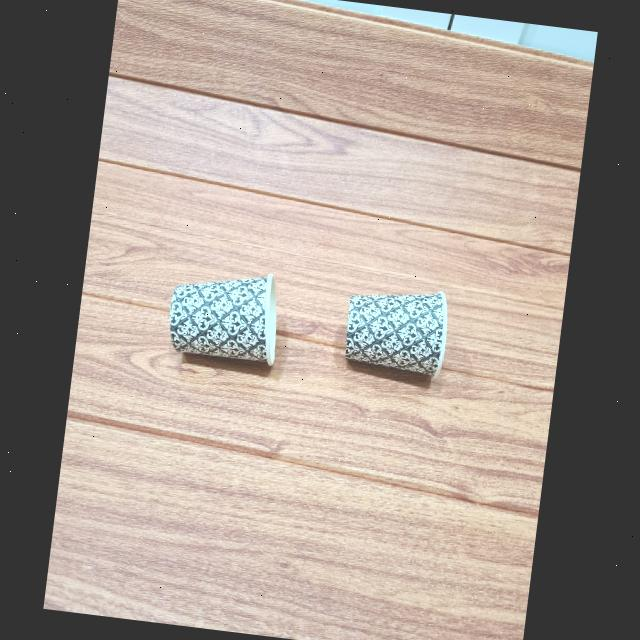trash: (160, 260, 288, 368), (334, 278, 456, 380)
